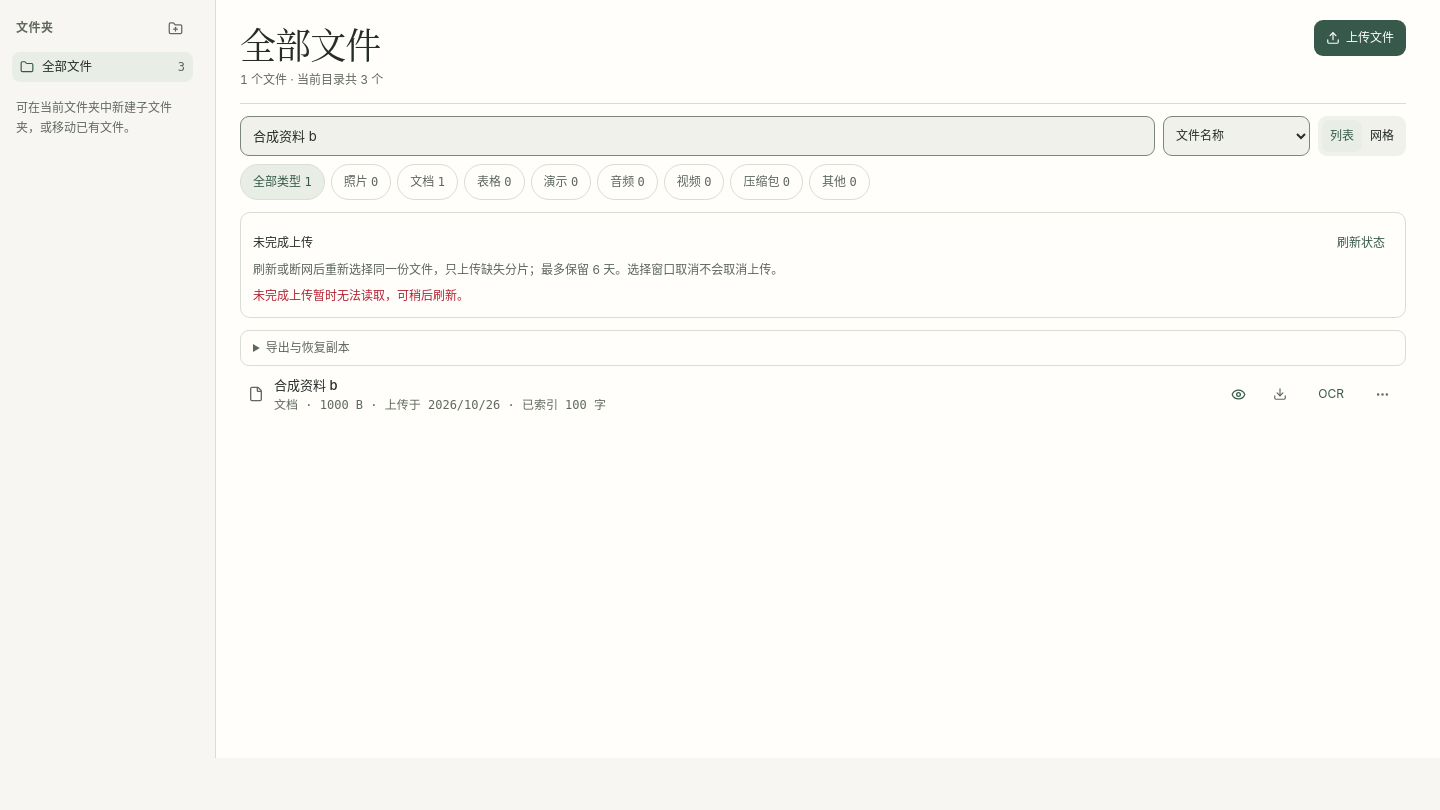
Test: uses the displayed filter/sort as the queue without remounting the viewer shell
The image size is (1440, 810).
Click the button named "预览 合成资料 b". click: (1238, 394)
box: [1222,378,1254,410]
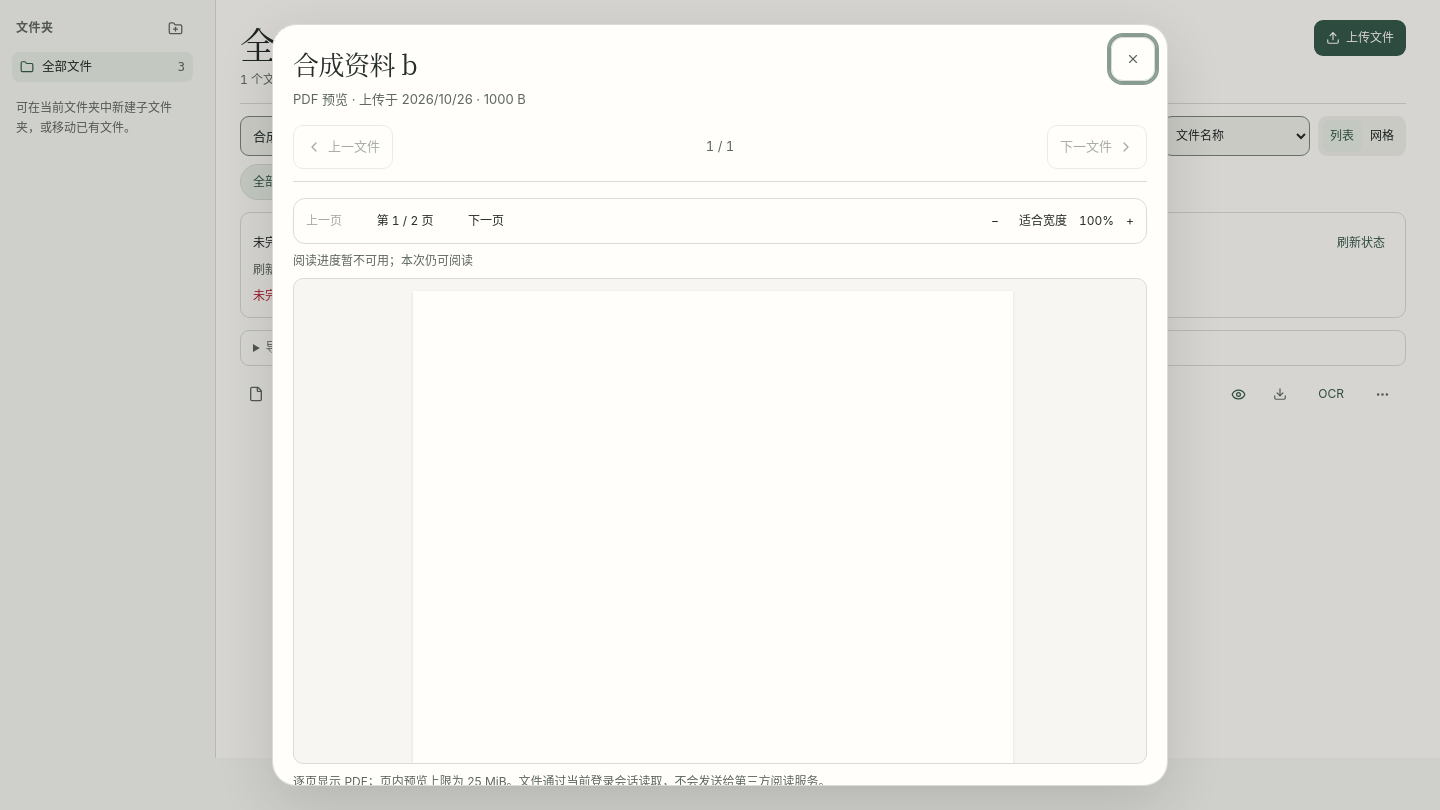
Expected: the button "上一文件" is disabled, [293,125,393,169]
Expected: the button "下一文件" is disabled, [1047,125,1147,169]
Expected: the text "1 / 1" is shown, [706,137,734,157]
